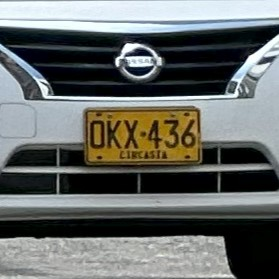number plate: (85, 108, 200, 164)
